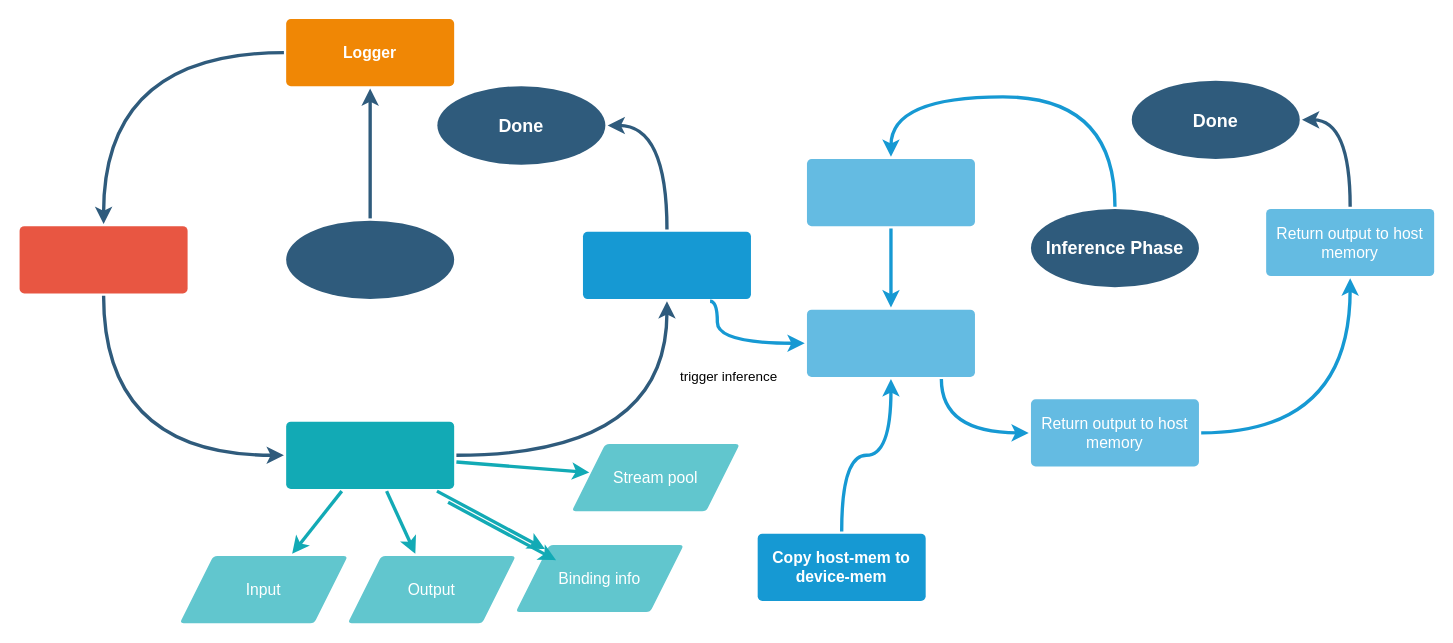
This 1453x643 diagram has some shape labels left out. The shapes that lost their labels are listed below. From the top down, each one's box as (x1, y1, x2, y2) in pixels, then its label:
(806, 158, 974, 226): Get input from device memory and do feed forward of the model
(19, 226, 187, 293): Initialize Runtime and Engine
(286, 220, 454, 298): Build Phase
(582, 231, 750, 298): Create Execution Context
(806, 309, 974, 376): Feed forward model
(286, 421, 454, 488): Allocate Buffer
